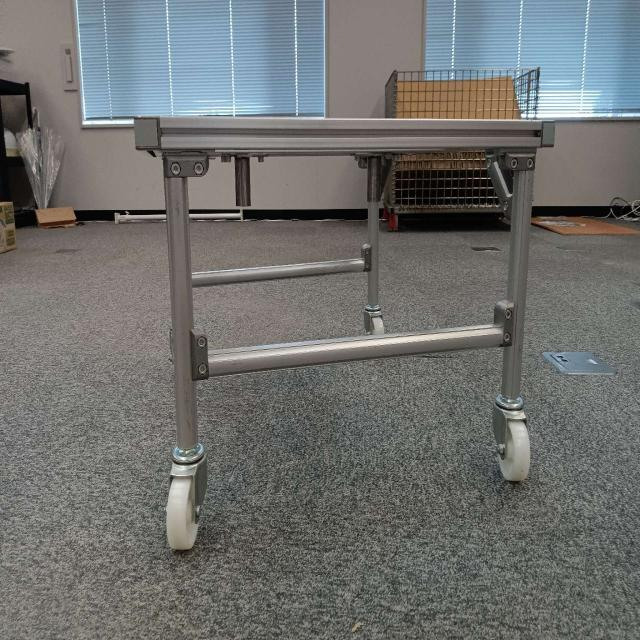side: (162, 108, 521, 371)
